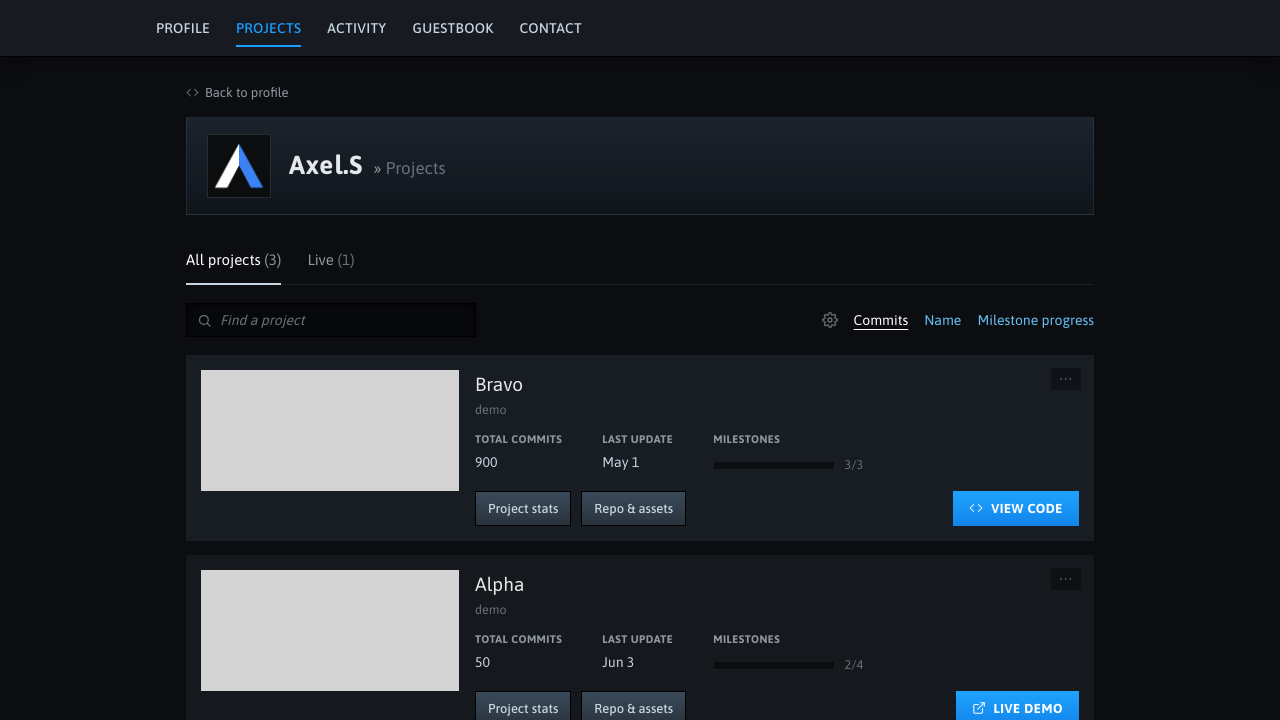
ProjectsLibrary › the Live tab shows only projects with a live URL
What coordinates should you click on to do the following:
click the text "Live"
I would click on:
 (331, 259)
Its box is [307, 250, 354, 268].
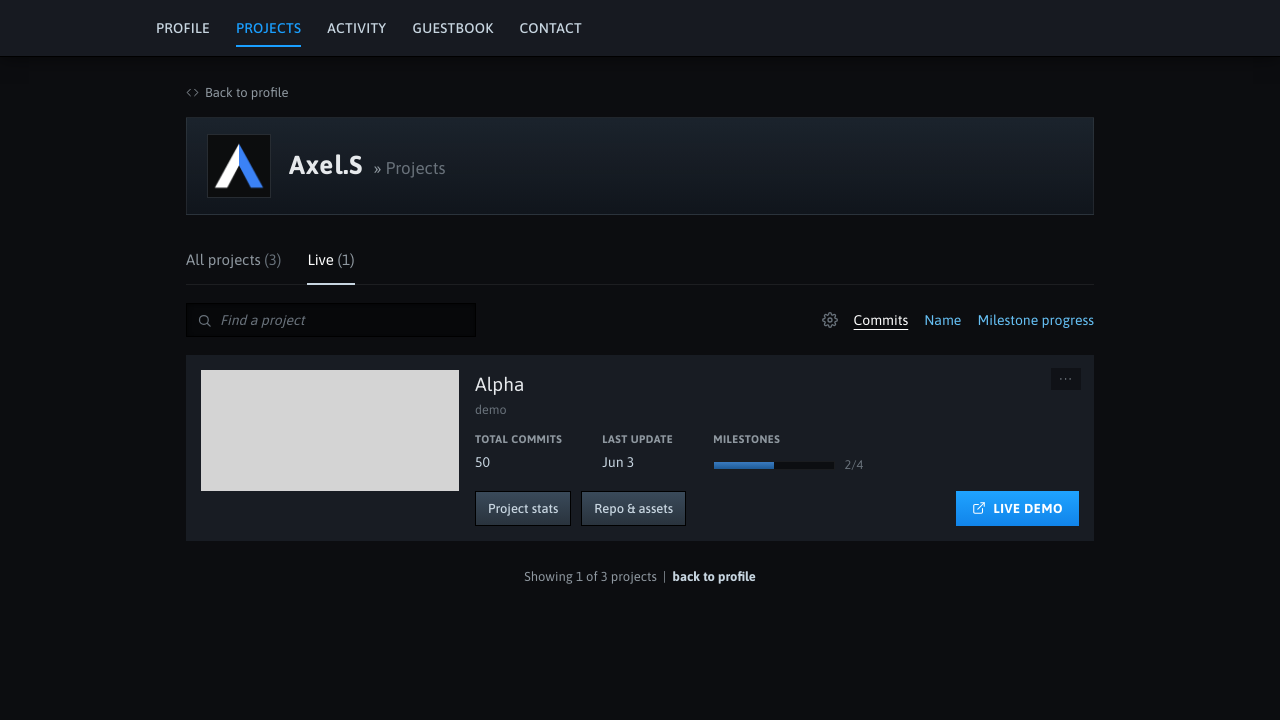
Check: the link "Alpha" is shown, box [475, 373, 524, 395]
Check: the link "Bravo" is gone
